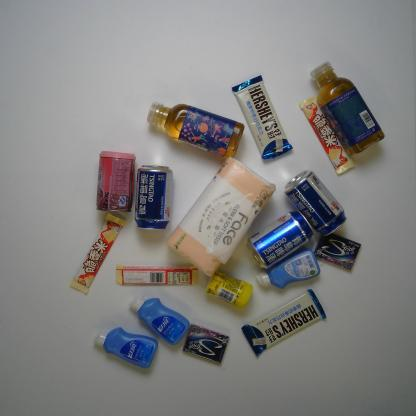Alcohol: (283, 168, 346, 237), (245, 210, 314, 271), (132, 165, 176, 231)
Canned Food: (95, 150, 138, 214)
Chocolate: (240, 289, 327, 358), (232, 75, 294, 159), (299, 95, 357, 178), (71, 212, 125, 294), (117, 265, 200, 287)
Drink: (309, 60, 386, 157), (146, 101, 245, 158)
Gum: (203, 268, 253, 310), (314, 228, 362, 271), (182, 324, 229, 364)
Personal Hygiene: (129, 294, 190, 346), (94, 326, 159, 369), (258, 250, 320, 289)
Tissue: (166, 154, 276, 277)
